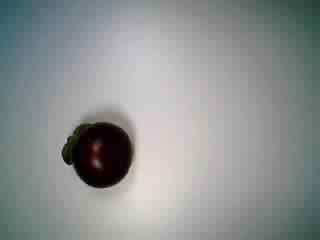mangosteen: (59, 116, 136, 195)
